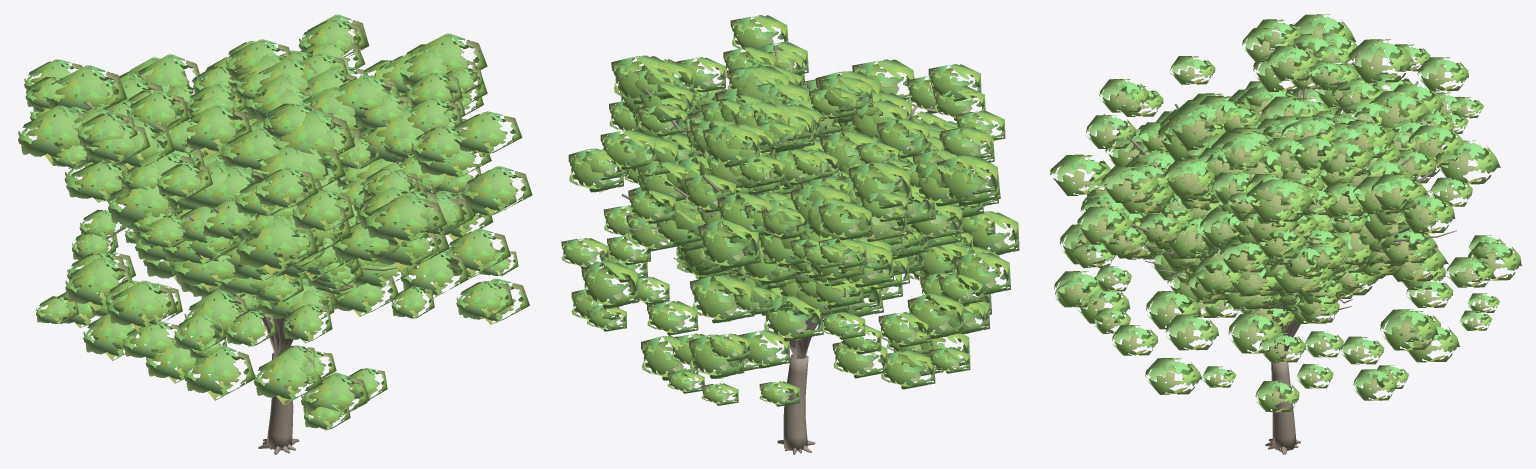
Rendered from maple.glb.
3 renders of one model, left to right at view 1: azimuth 30°, elevation 25°; view 2: azimuth 150°, elevation 25°; view 3: azimuth 270°, elevation 25°, orthographic. The views are drawn at different scales.
Parts seen in each view (by area): view 1: MapleTree_2, MapleTree_3, MapleTree_4, MapleTree_5, MapleTree_1; view 2: MapleTree_5, MapleTree_2, MapleTree_3, MapleTree_4, MapleTree_1; view 3: MapleTree_2, MapleTree_5, MapleTree_3, MapleTree_4, MapleTree_1.
Part boxes in pixels (x1=…): MapleTree_2: x1=18, y1=14, x2=532, y2=453; MapleTree_3: x1=46, y1=60, x2=513, y2=452; MapleTree_4: x1=24, y1=33, x2=518, y2=454; MapleTree_5: x1=36, y1=52, x2=522, y2=454; MapleTree_1: x1=57, y1=19, x2=529, y2=444; MapleTree_5: x1=561, y1=15, x2=994, y2=452; MapleTree_2: x1=568, y1=47, x2=1000, y2=452; MapleTree_3: x1=581, y1=59, x2=1019, y2=448; MapleTree_4: x1=587, y1=55, x2=1005, y2=454; MapleTree_1: x1=571, y1=63, x2=1010, y2=453; MapleTree_2: x1=1054, y1=14, x2=1493, y2=451; MapleTree_5: x1=1072, y1=19, x2=1500, y2=454; MapleTree_3: x1=1050, y1=39, x2=1448, y2=454; MapleTree_4: x1=1077, y1=44, x2=1521, y2=449; MapleTree_1: x1=1093, y1=85, x2=1459, y2=452.
Bounding box in the file's own units: 6.29 × 5.11 × 6.27.
Materials: 2 (1 with a texture image).
